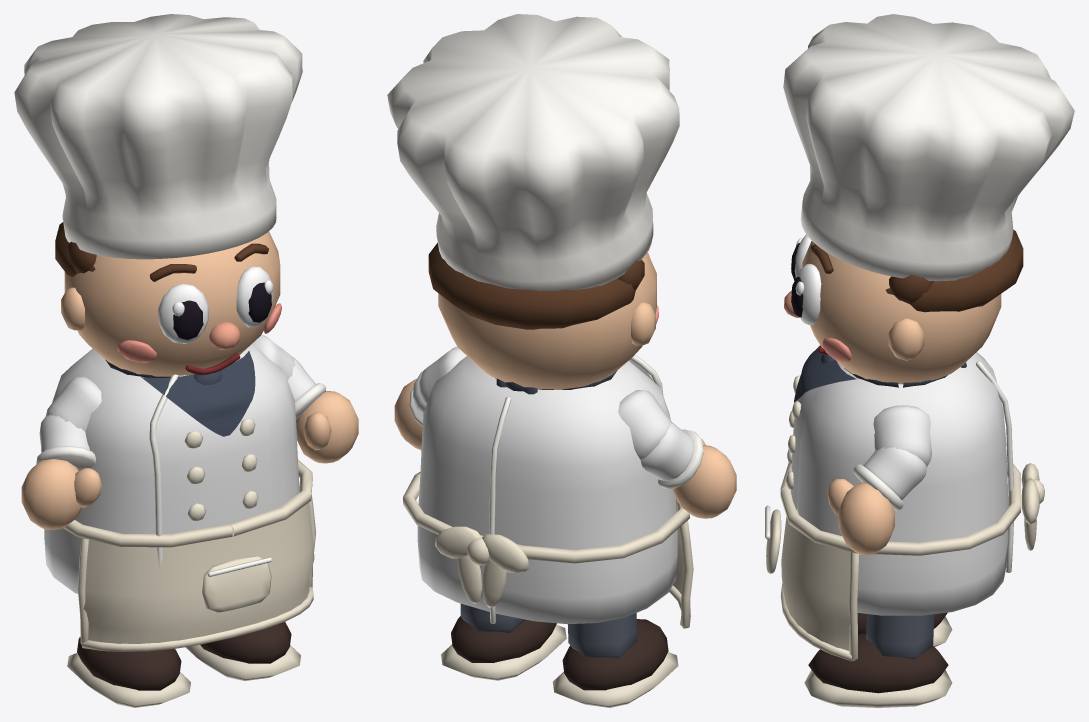
The model's file is chef.glb.
3 views of the same model, side by side, from view 1: azimuth 30°, elevation 25°; view 2: azimuth 150°, elevation 25°; view 3: azimuth 270°, elevation 25° (orthographic). The views are drawn at different scales.
Parts seen in each view (by area): view 1: Body, Toque, Head, FootR, Eyes, HandR, FootL, HandL, UpperArmR, ForearmR, CuffR, Brows (+2 smaller); view 2: Toque, Body, Head, FootR, FootL, HandR, LegR, UpperArmR, ForearmR, HandL, LegL, UpperArmL (+1 smaller); view 3: Toque, Body, Head, FootL, HandL, LegL, UpperArmL, ForearmL, Eyes, CuffL, FootR.
Part boxes in pixels (x1,y1,x2,y2): Body: (44,344,315,651); Toque: (14,14,302,259); Head: (55,222,281,376); FootR: (67,637,190,707); Eyes: (158,266,273,343); HandR: (21,459,101,529); FootL: (185,622,300,680); HandL: (296,391,358,463); UpperArmR: (45,376,101,431); ForearmR: (39,415,89,452); CuffR: (36,446,95,470); Brows: (149,243,268,281); Toque: (387,14,679,291); Body: (403,355,693,628); Head: (428,242,658,389); FootR: (552,619,678,707); FootL: (441,616,566,680); HandR: (672,439,736,518); LegR: (568,613,636,658); UpperArmR: (618,390,672,459); ForearmR: (640,422,694,481); HandL: (394,379,422,450); LegL: (460,603,525,632); UpperArmL: (419,346,466,404); Toque: (783,14,1074,281); Body: (765,345,1044,661); Head: (784,229,1023,384); FootL: (804,633,952,707); HandL: (827,479,894,555); LegL: (866,614,934,659); UpperArmL: (873,405,931,466); ForearmL: (863,447,926,499); Eyes: (791,234,821,325); CuffL: (853,464,903,510); FootR: (857,612,952,646).
Bounding box in the file's own units: 0.8104 × 1.45 × 0.6615.
